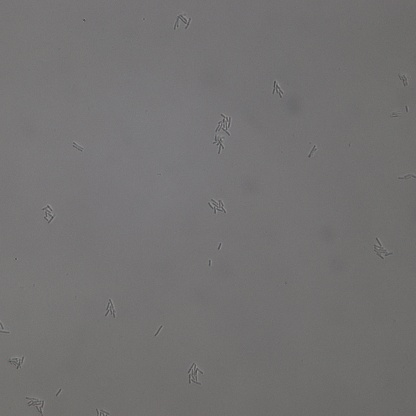R(colony): (25, 394, 45, 416), (373, 238, 393, 260), (215, 113, 233, 135), (187, 363, 203, 385), (207, 199, 227, 214), (41, 203, 55, 224), (174, 13, 191, 29), (7, 355, 26, 369), (212, 134, 225, 154), (104, 298, 116, 318), (272, 80, 283, 99)
